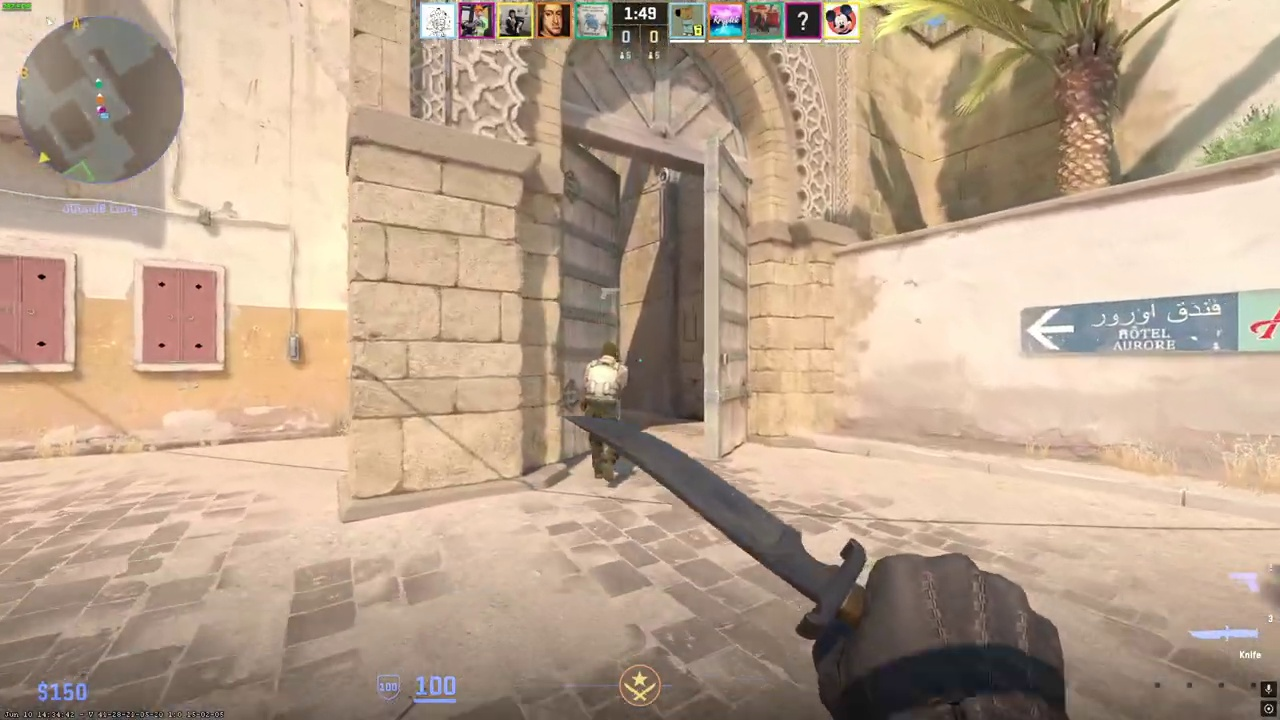Terrorist: (583, 340, 628, 483)
